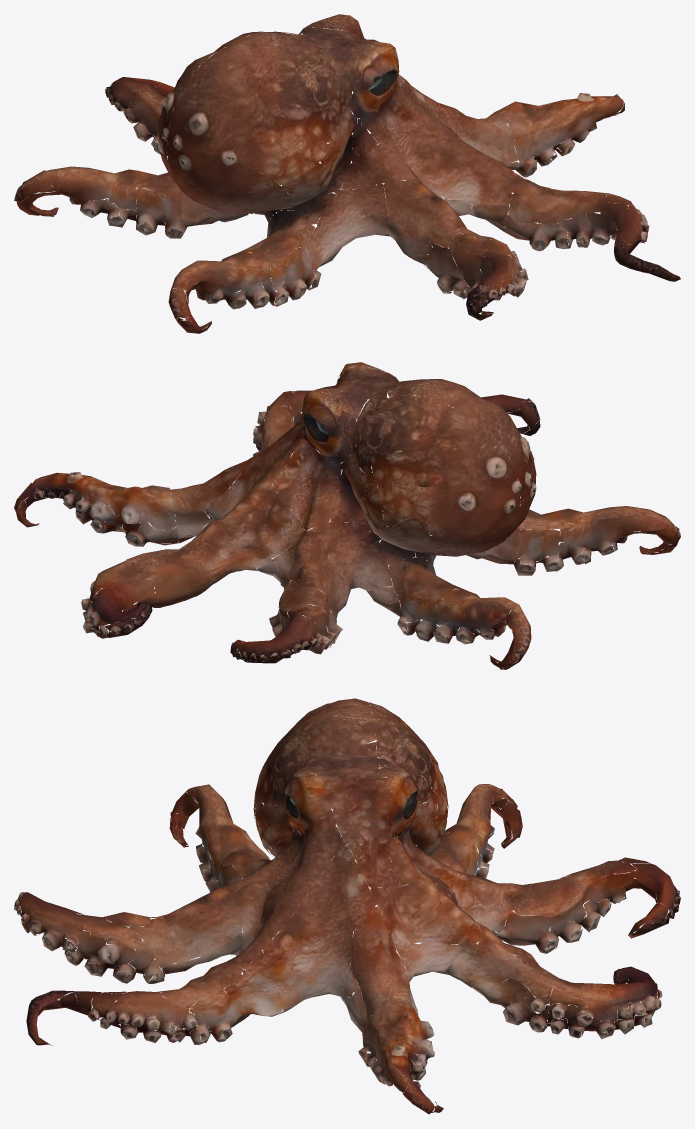
Rendered from octopus.glb.
3 views of the same model, one above another, from view 1: azimuth 30°, elevation 25°; view 2: azimuth 150°, elevation 25°; view 3: azimuth 270°, elevation 25° (orthographic). The views are drawn at different scales.
Visible parts, largest first — view 1: tripo_node_eef2fde1-8469-4bf8-b1f5-60296623b853; view 2: tripo_node_eef2fde1-8469-4bf8-b1f5-60296623b853; view 3: tripo_node_eef2fde1-8469-4bf8-b1f5-60296623b853.
Boxes of the visible parts, box(x1,y1,x2,y2) form: tripo_node_eef2fde1-8469-4bf8-b1f5-60296623b853: box(14, 14, 680, 333); tripo_node_eef2fde1-8469-4bf8-b1f5-60296623b853: box(14, 362, 680, 669); tripo_node_eef2fde1-8469-4bf8-b1f5-60296623b853: box(14, 698, 680, 1114).
Size of the model in its own units: 1 by 0.3558 by 0.9865.
Materials: 1 (1 with a texture image).
